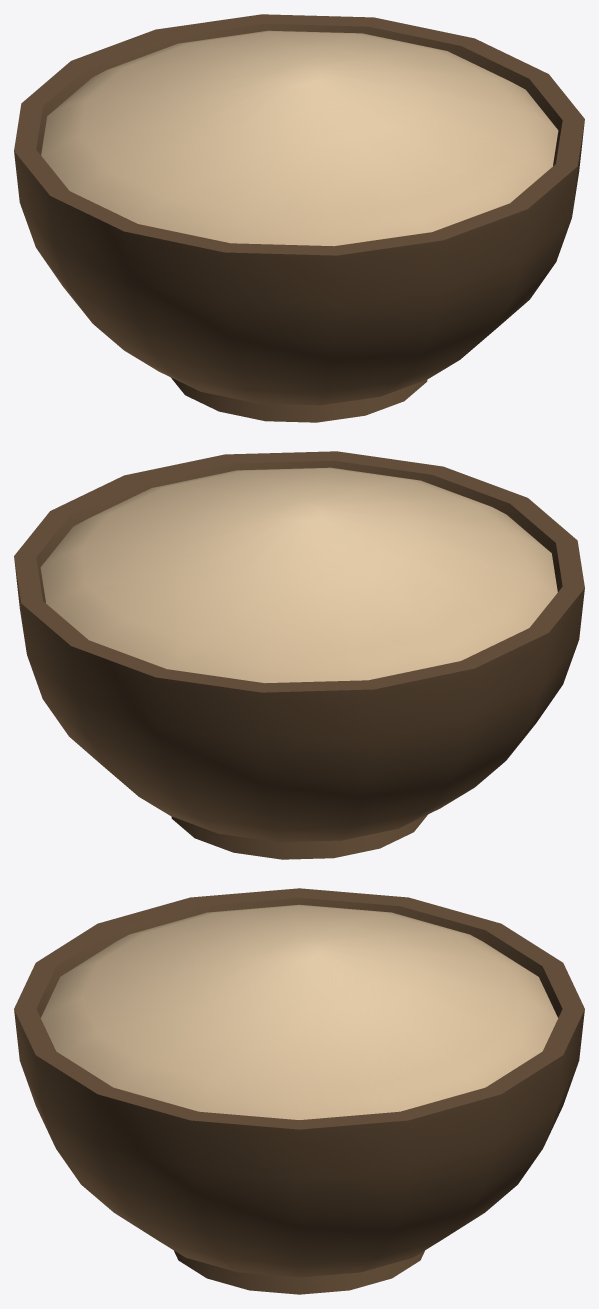
The model's file is Rice_Blows.FBX.
3 views of the same model, one above another, from view 1: azimuth 30°, elevation 25°; view 2: azimuth 150°, elevation 25°; view 3: azimuth 270°, elevation 25° (orthographic).
Visible parts, largest first — view 1: Rice bowls; view 2: Rice bowls; view 3: Rice bowls.
Boxes of the visible parts, left/top/right/bottom form: Rice bowls: left=14, top=14, right=584, bottom=422; Rice bowls: left=14, top=451, right=584, bottom=859; Rice bowls: left=14, top=888, right=584, bottom=1294.
Bounding box in the file's own units: 11.08 × 6.19 × 11.08.
Materials: 1 (1 with a texture image).
